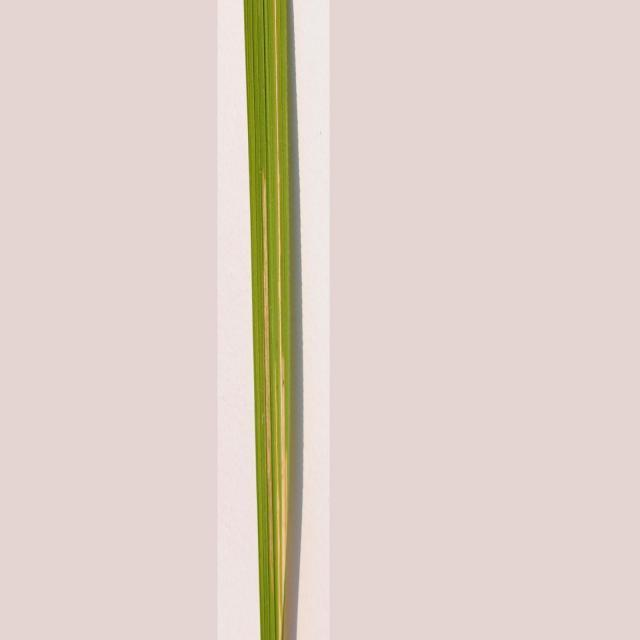leaf blight: (247, 2, 298, 640)
